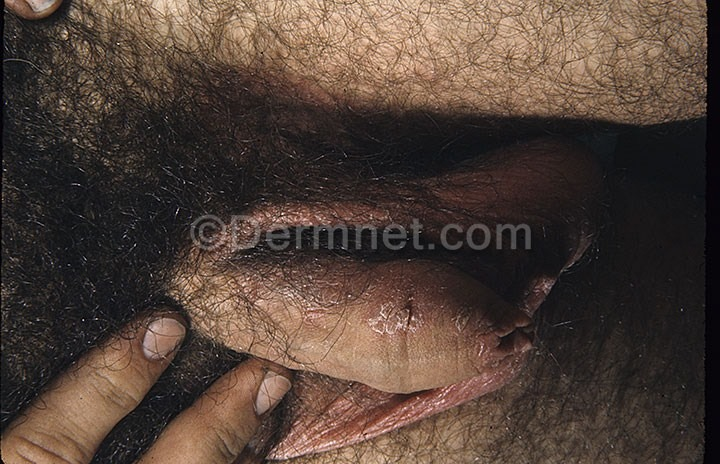Psoriasis: (255, 267, 352, 325), (356, 280, 445, 341)
